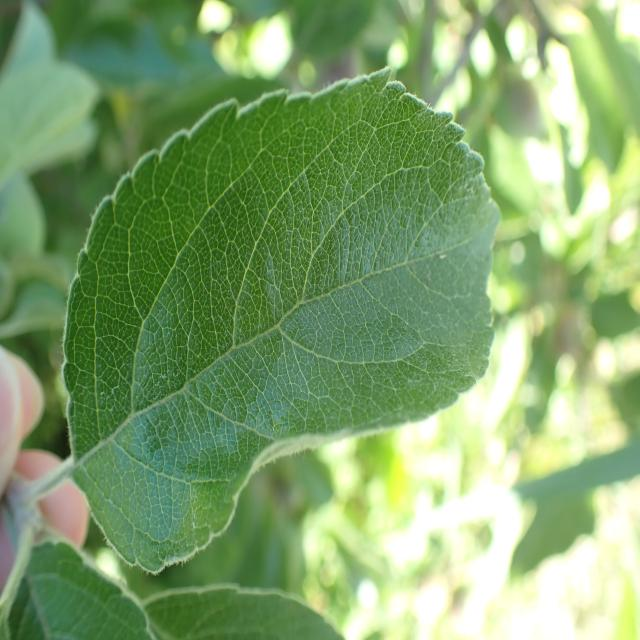healthy: (61, 66, 502, 574), (1, 539, 154, 640), (140, 583, 346, 640)
